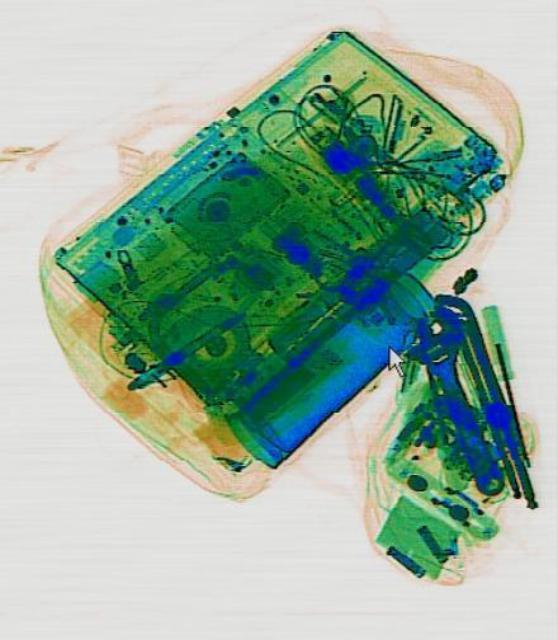Wrench: (393, 301, 518, 507)
